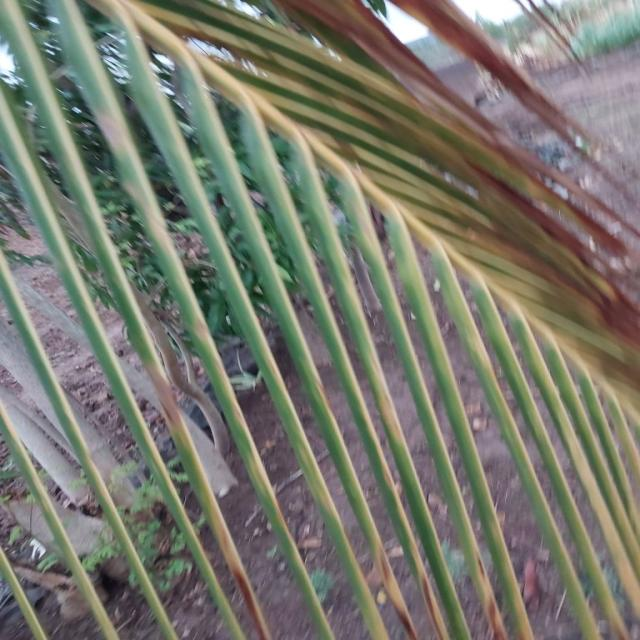gray leaf spot: (99, 0, 640, 405)
